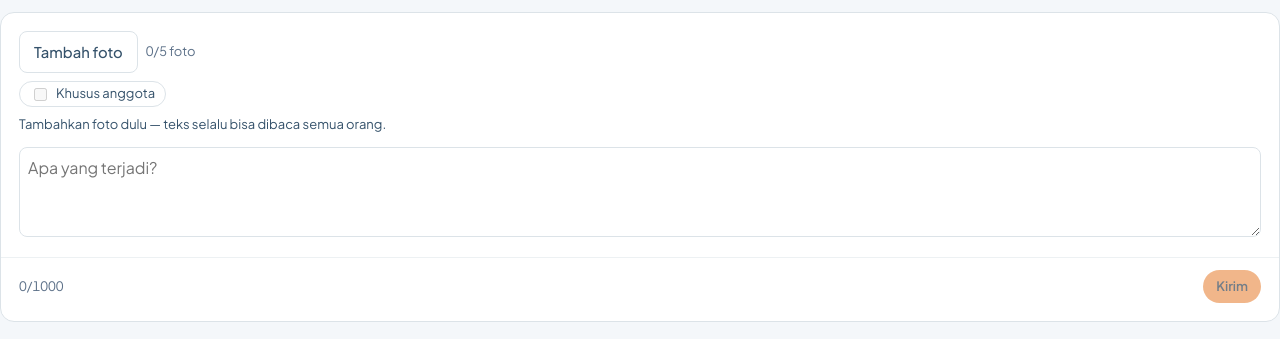
PostComposer — what may be sent › enables the submit button once there is non-whitespace text
Step 1. Type "  halo  " into the text box labelled "Apa yang terjadi?" → coordinates (640, 192), box [19,147,1261,237]
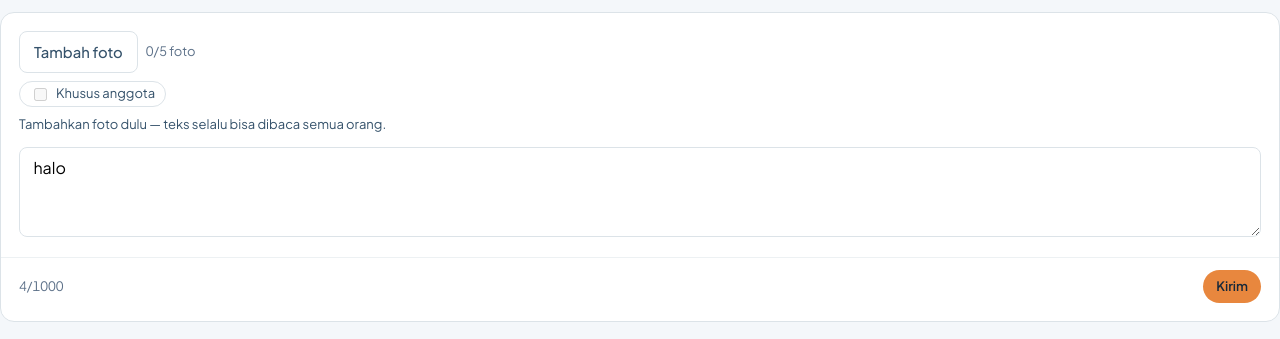
Now the button "Kirim" is enabled, box [1203,270,1261,303]
